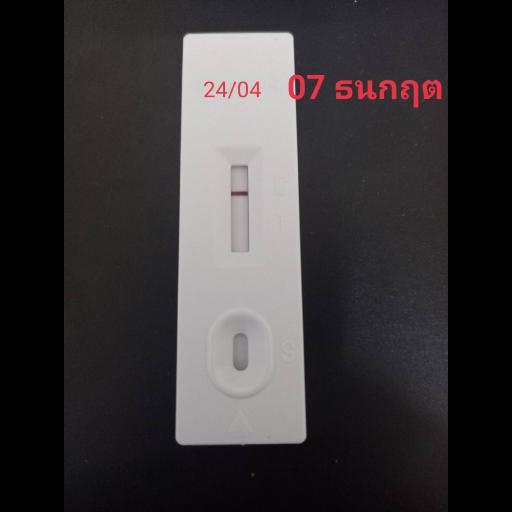Neg: (180, 32, 304, 442)
